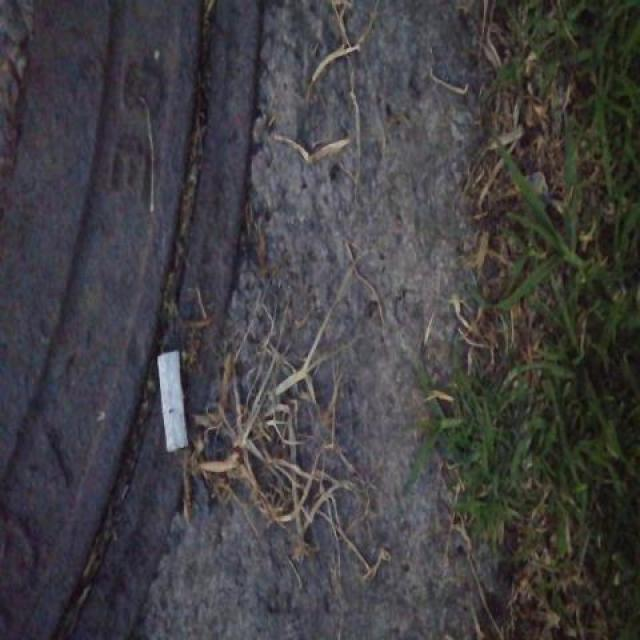non-organic waste: (151, 344, 193, 457)
